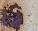Corrosion: (1, 1, 24, 31)
